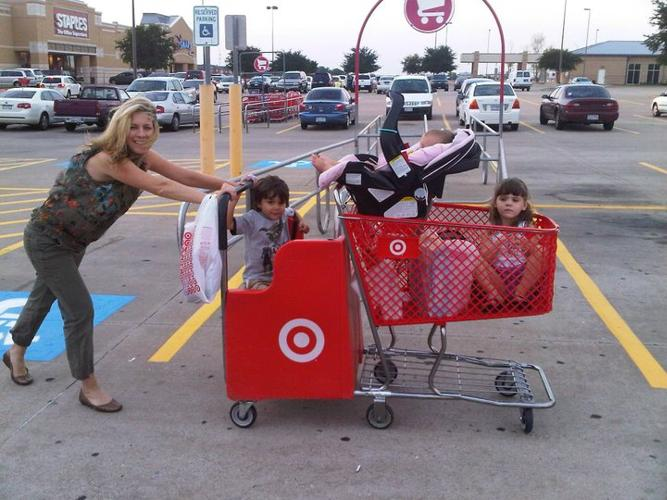person: (3, 94, 262, 415)
